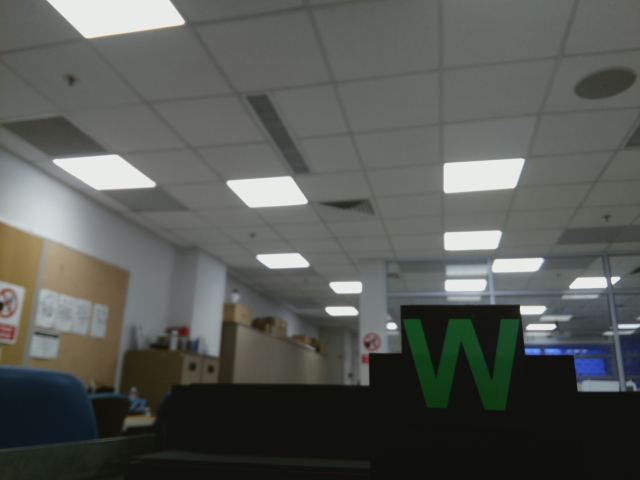w: (399, 310, 523, 417)
